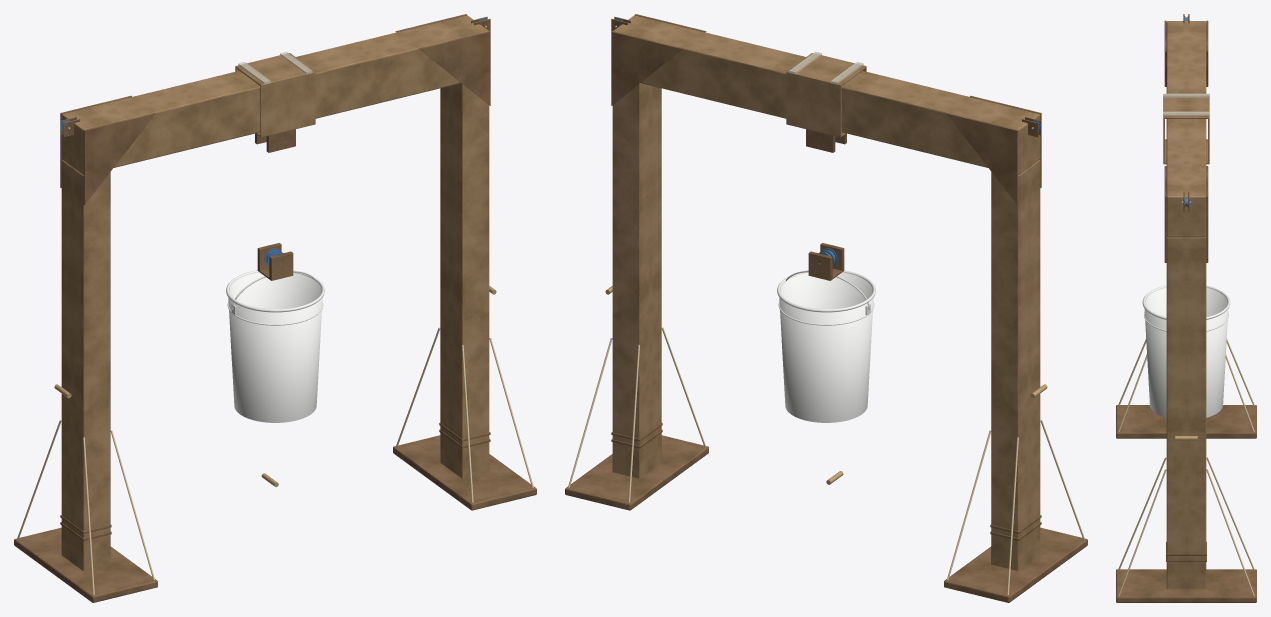
Rendered from portique.glb.
The picture shows the model from 3 angles, left to right: view 1: azimuth 30°, elevation 25°; view 2: azimuth 150°, elevation 25°; view 3: azimuth 270°, elevation 25°; orthographic projection. The views are drawn at different scales.
Parts seen in each view (by area): view 1: Poutre, Pied_G, Pied_D, Seau, Chariot_corps, Socle_D, Socle_G, Equerres_G, Equerres_D, Tiges_G, Tiges_D, Support_bas; view 2: Poutre, Pied_G, Pied_D, Seau, Chariot_corps, Socle_D, Socle_G, Equerres_G, Equerres_D, Tiges_G, Tiges_D, Support_bas; view 3: Pied_D, Poutre, Seau, Socle_D, Socle_G, Chariot_corps, Tiges_D, Tiges_G, Equerres_D, Equerres_G.
Boxes of the visible parts, <box> form: Poutre: <box>61,15,488,174</box>; Pied_G: <box>60,160,111,570</box>; Pied_D: <box>439,83,490,478</box>; Seau: <box>226,270,324,422</box>; Chariot_corps: <box>235,51,315,137</box>; Socle_D: <box>393,435,536,510</box>; Socle_G: <box>14,527,157,602</box>; Equerres_G: <box>60,95,155,204</box>; Equerres_D: <box>395,14,490,105</box>; Tiges_G: <box>17,419,154,594</box>; Tiges_D: <box>395,327,533,502</box>; Support_bas: <box>257,243,293,280</box>; Poutre: <box>613,15,1040,174</box>; Pied_G: <box>990,160,1041,570</box>; Pied_D: <box>611,83,662,478</box>; Seau: <box>777,270,875,422</box>; Chariot_corps: <box>786,51,866,137</box>; Socle_D: <box>565,435,708,510</box>; Socle_G: <box>944,527,1087,602</box>; Equerres_G: <box>946,95,1041,204</box>; Equerres_D: <box>611,14,706,105</box>; Tiges_G: <box>947,419,1084,594</box>; Tiges_D: <box>568,327,706,502</box>; Support_bas: <box>808,243,844,280</box>; Pied_D: <box>1166,236,1206,588</box>; Poutre: <box>1166,21,1206,237</box>; Seau: <box>1142,285,1230,417</box>; Socle_D: <box>1116,569,1256,602</box>; Socle_G: <box>1116,405,1256,438</box>; Chariot_corps: <box>1163,93,1209,164</box>; Tiges_D: <box>1118,457,1254,596</box>; Tiges_G: <box>1118,338,1254,431</box>; Equerres_D: <box>1164,166,1208,262</box>; Equerres_G: <box>1164,20,1208,86</box>.
Size of the model in its own units: 0.81 by 0.789 by 0.25.
10 materials, 3 textured.
